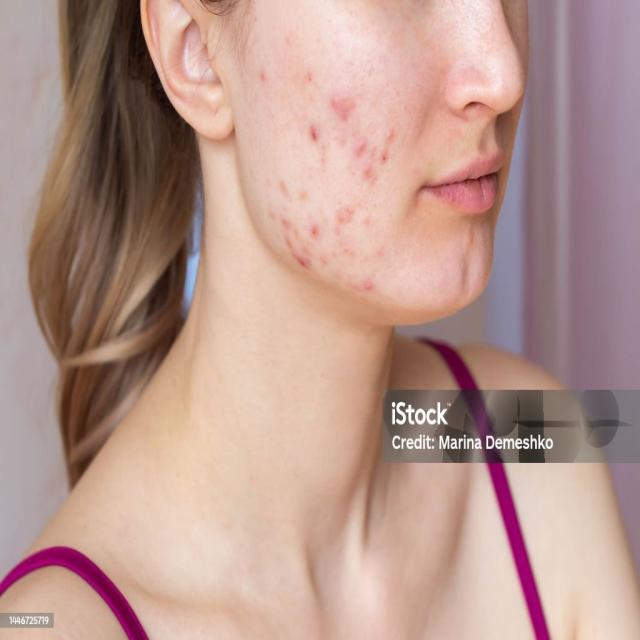papule: (325, 85, 360, 123), (331, 224, 358, 270), (347, 129, 370, 163), (289, 250, 314, 276), (306, 118, 324, 151), (360, 158, 378, 189), (358, 272, 377, 299), (336, 204, 356, 227), (361, 207, 374, 234), (302, 64, 316, 89), (319, 138, 331, 167), (382, 128, 399, 147), (318, 249, 332, 271), (375, 242, 390, 262), (258, 65, 271, 88), (379, 147, 392, 169), (278, 212, 293, 231), (301, 239, 315, 259), (310, 219, 321, 244), (335, 129, 350, 147), (263, 207, 278, 221), (291, 222, 302, 241), (370, 140, 379, 162), (284, 31, 293, 48), (284, 235, 294, 249)
